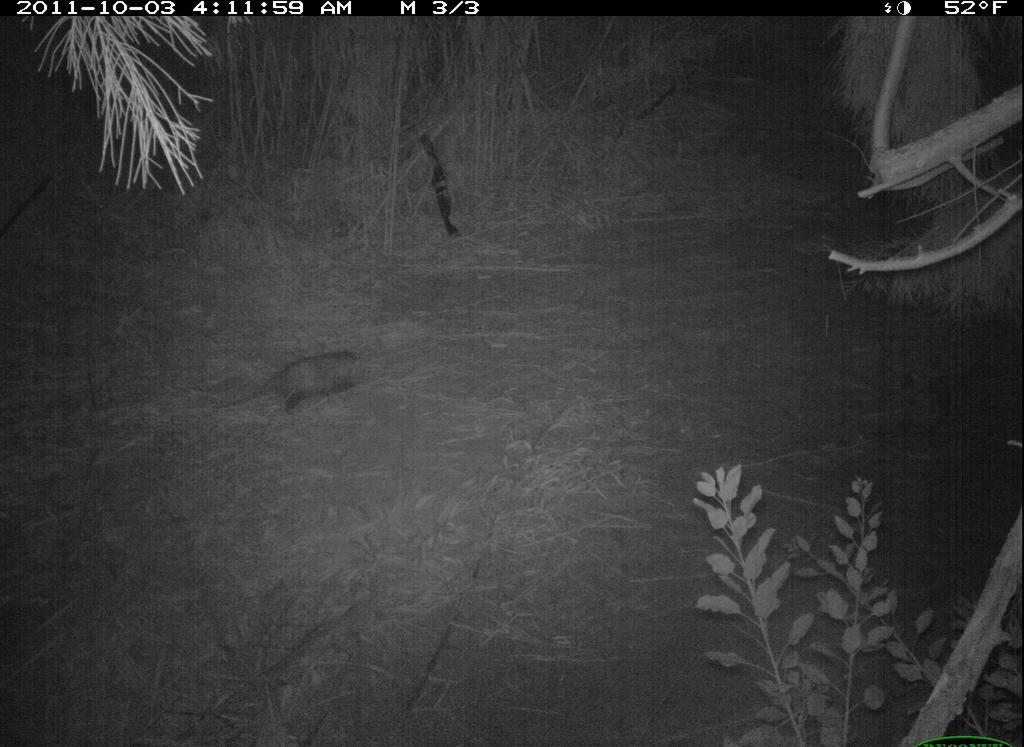opossum: (221, 350, 379, 415)
